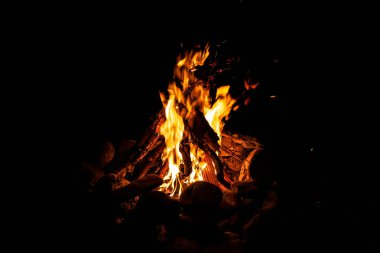fire: (164, 48, 229, 180)
